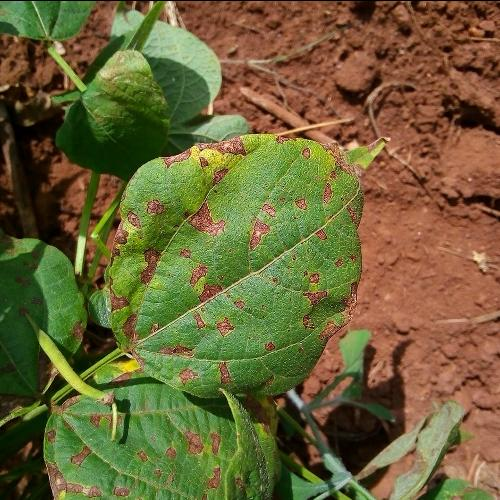hawar: (96, 192, 170, 364), (175, 225, 262, 350), (130, 418, 254, 496), (289, 230, 353, 347), (45, 394, 115, 494), (152, 131, 268, 188)
